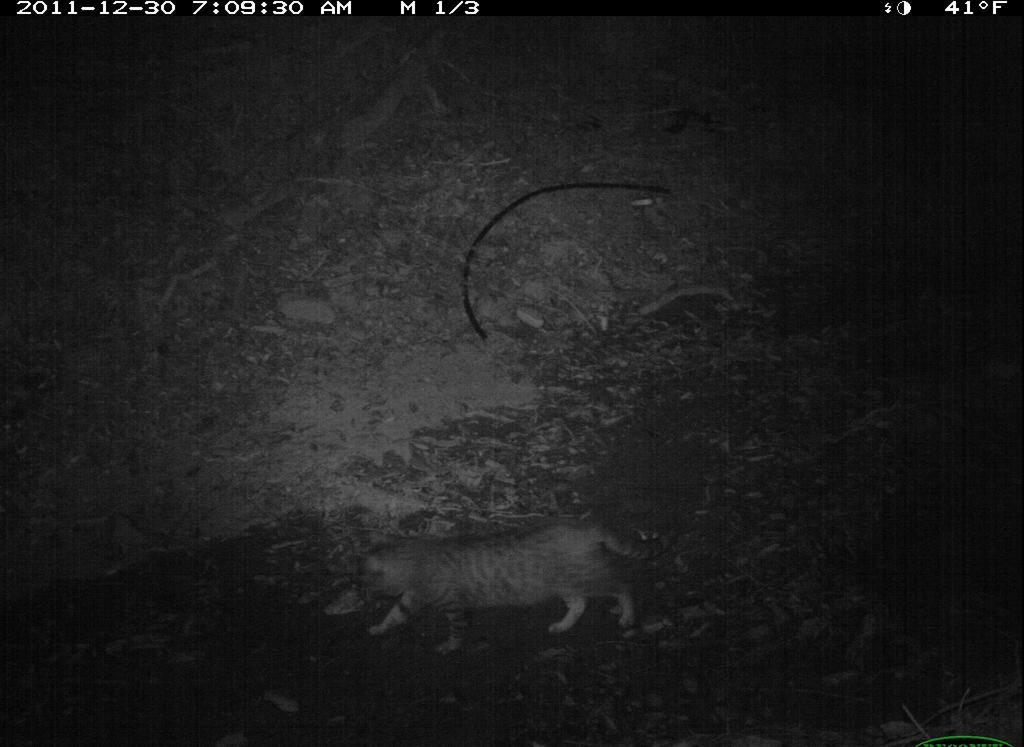cat: (333, 513, 689, 651)
